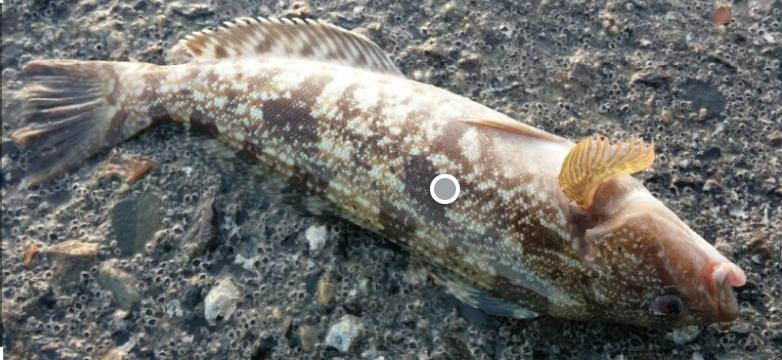fish: (11, 17, 746, 326)
